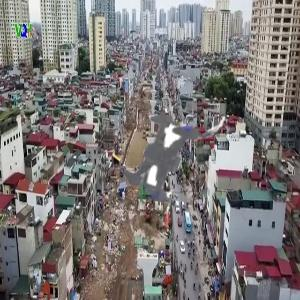drone: (54, 56, 265, 267)
